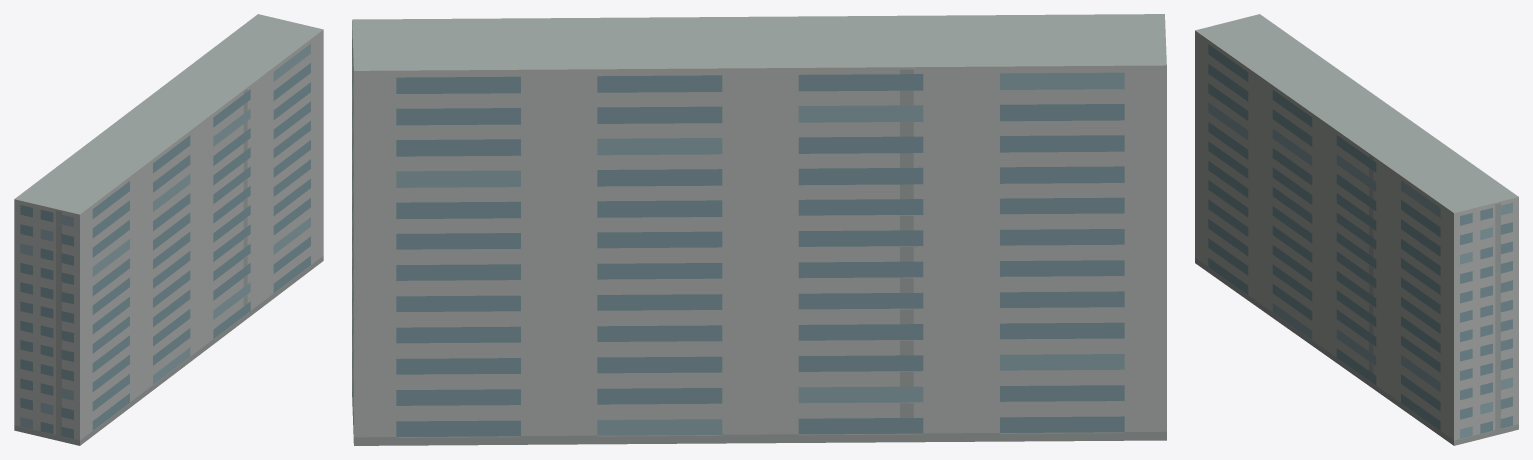
File: residential-b5d9567c-a39f-4010-9e5f-a0159dbece61.glb
3 views of the same model, side by side, from view 1: azimuth 30°, elevation 25°; view 2: azimuth 150°, elevation 25°; view 3: azimuth 270°, elevation 25° (orthographic). The views are drawn at different scales.
Parts seen in each view (by area): view 1: residential-b5d9567c-a39f-4010-9e5f-a0159dbece61.tmp; view 2: residential-b5d9567c-a39f-4010-9e5f-a0159dbece61.tmp; view 3: residential-b5d9567c-a39f-4010-9e5f-a0159dbece61.tmp.
Boxes of the visible parts, x1,y1,x2,y2 form: residential-b5d9567c-a39f-4010-9e5f-a0159dbece61.tmp: (14, 14, 323, 445); residential-b5d9567c-a39f-4010-9e5f-a0159dbece61.tmp: (352, 14, 1166, 445); residential-b5d9567c-a39f-4010-9e5f-a0159dbece61.tmp: (1195, 14, 1518, 445).
Bounding box in the file's own units: 67.23 × 36.6 × 46.18.
